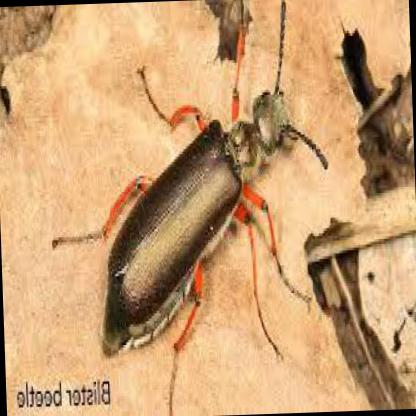blister beetle: (103, 6, 328, 358)
